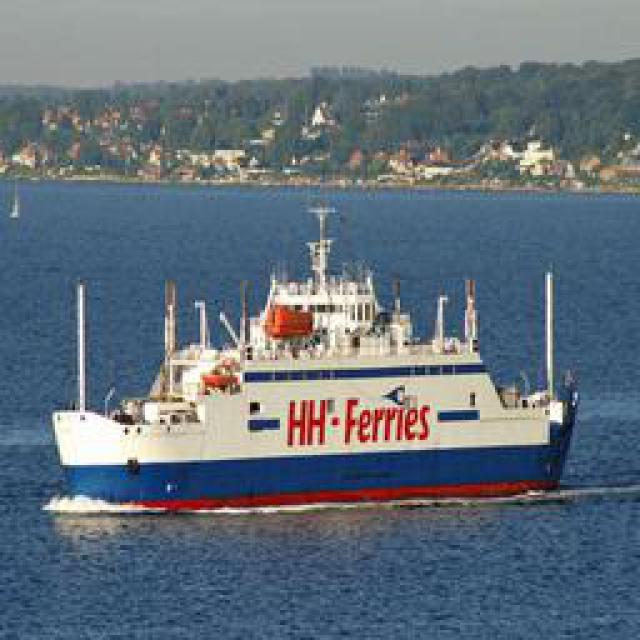Ship: (53, 218, 588, 506)
